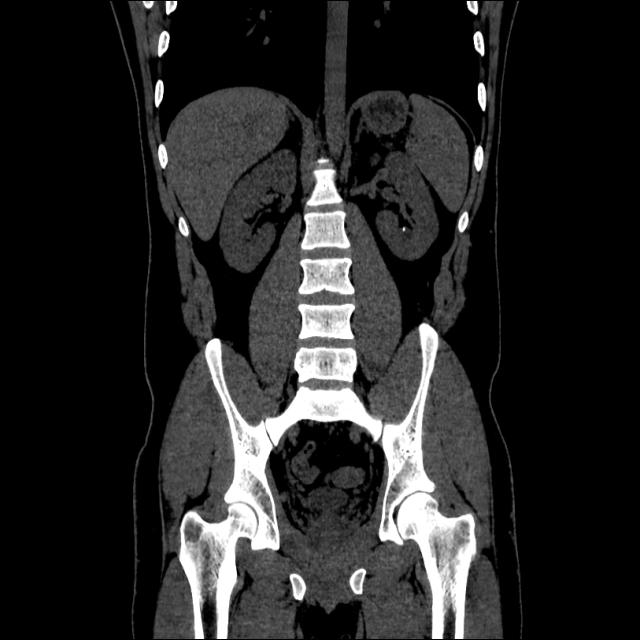kidney: (363, 153, 444, 265), (233, 163, 297, 284)
stone: (398, 219, 408, 242)
